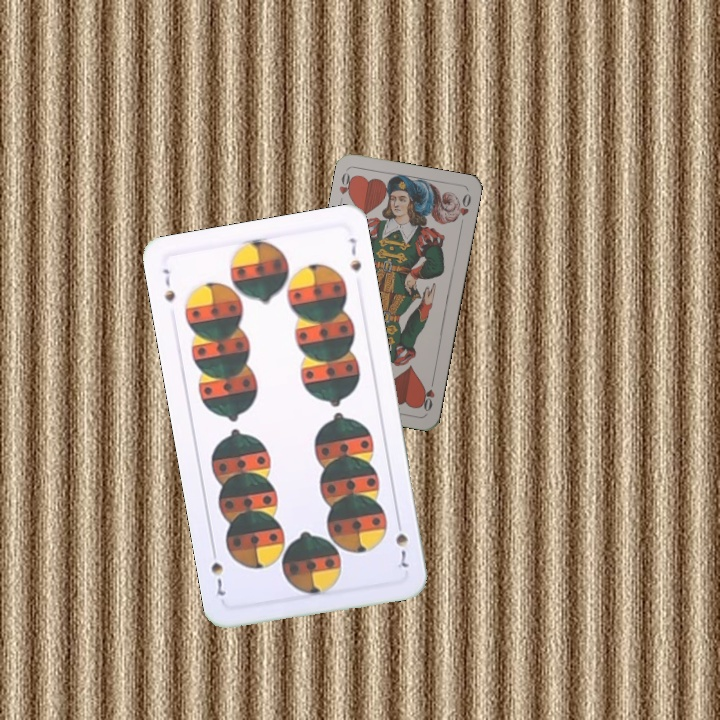HO: (335, 168, 357, 207), (417, 374, 437, 414)
S7: (391, 514, 411, 570), (158, 265, 178, 306)
